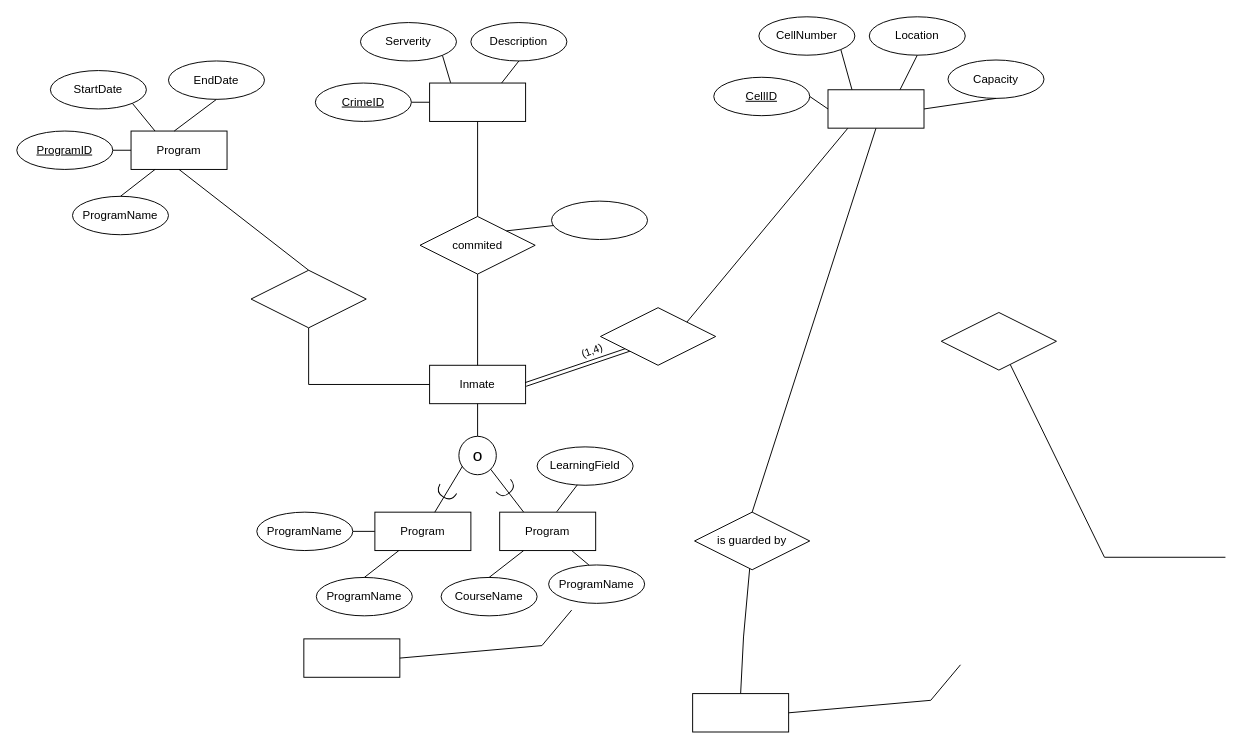
Some shapes in this 1243 by 749 pixel diagram are drawn without their labels. The shapes that lost their labels are listed below. From the top down, each one's centre as x and y in pixels, then its label:
At [477,101]: "Crime".
At [875,108]: "Cell".
At [599,220]: "Date".
At [308,298]: "participates".
At [658,336]: "is assigned to".
At [998,341]: "Relationship".
At [351,657]: "Staff".
At [740,712]: "Guard".
